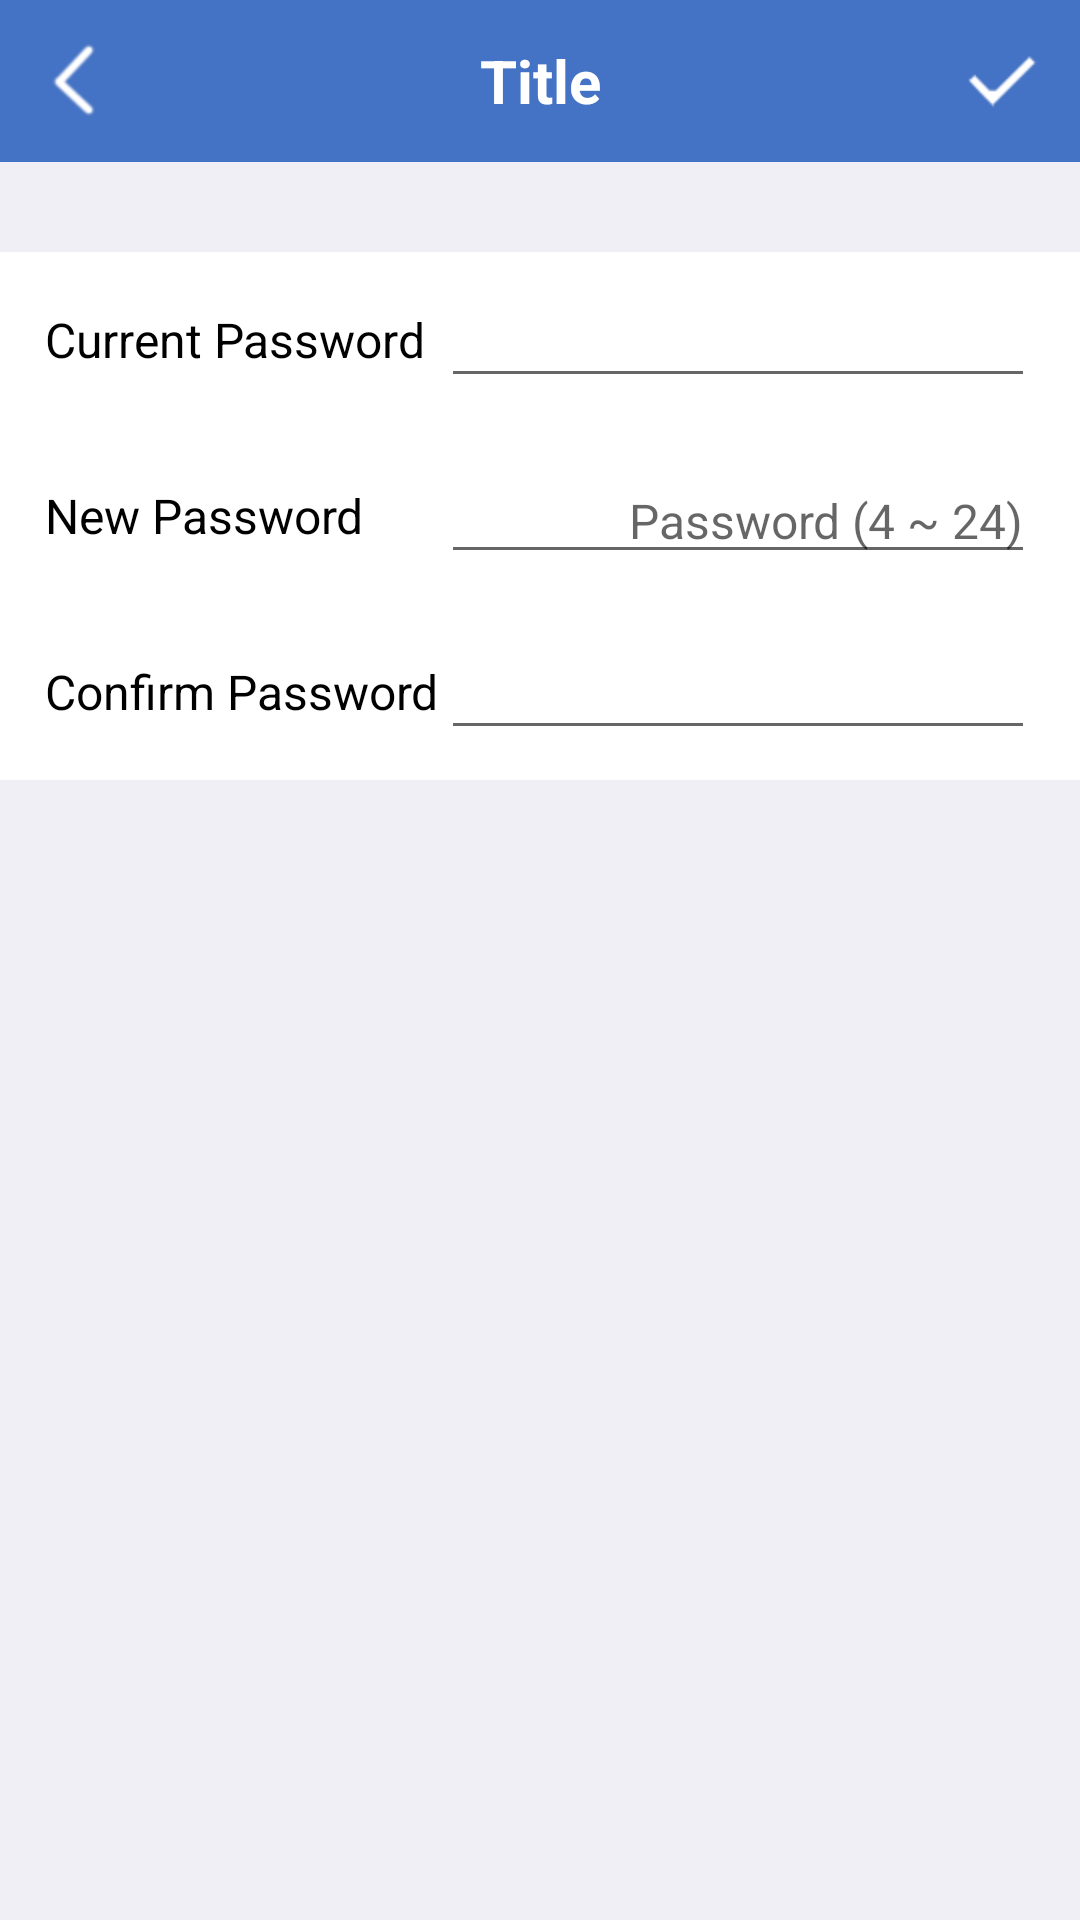

Icons on this 1080x1920 Android screen, each with the point to tap as (x=x, y=y):
backbtn: (x=74, y=80)
checkmark: (x=1002, y=81)
